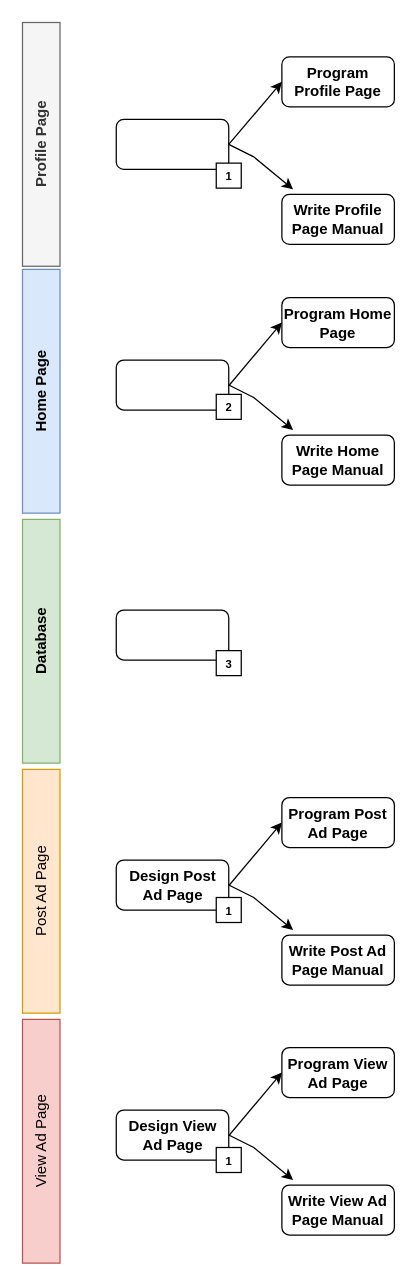
The diagram is 416 pixels wide and 1285 high, and some of its shapes have lost their labels. The shapes that lost their labels are listed below. From the top down, each one's box as (x1, y1, x2, y2) in pixels, then its label:
(115, 118, 229, 169): Design Profile Page
(115, 359, 229, 410): Design Home Page
(115, 609, 229, 660): Design Database
